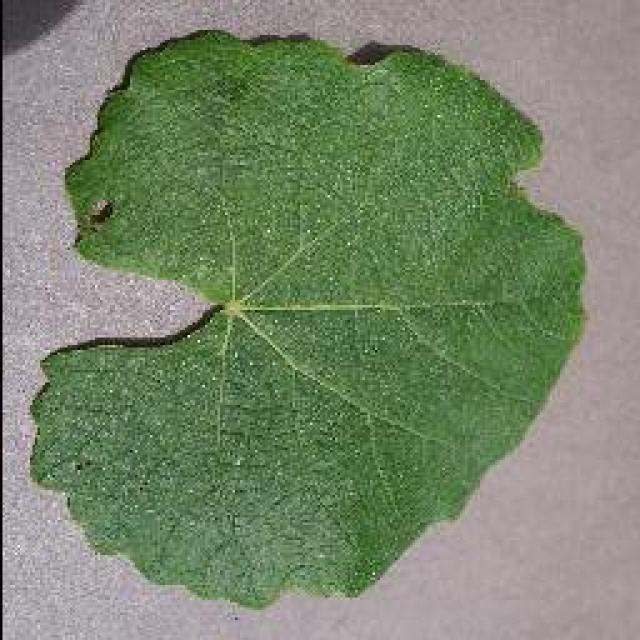Grape___healthy: (21, 26, 591, 615)
